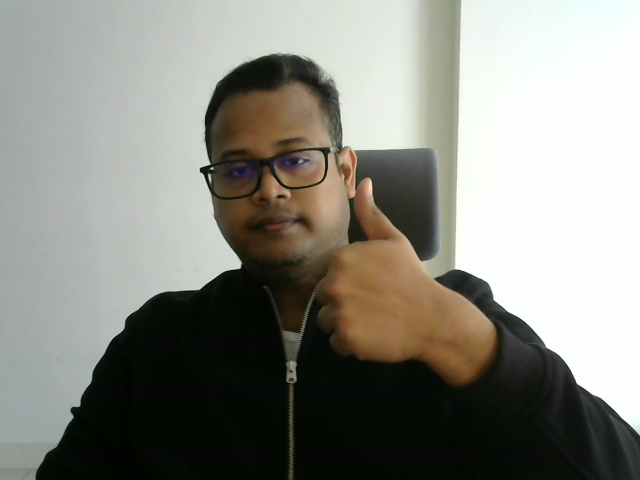ThumbsUp: (315, 176, 435, 361)
